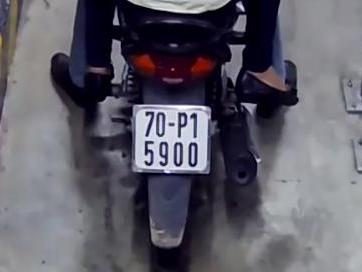num_plate: (131, 106, 211, 176)
